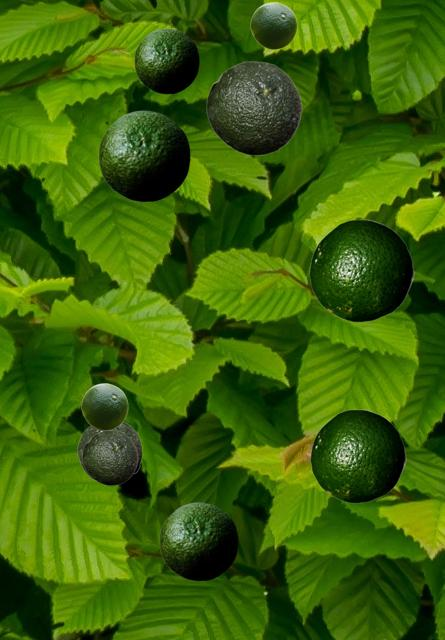calamansi: (309, 219, 413, 321), (310, 409, 405, 502), (206, 61, 301, 154), (98, 110, 189, 201), (159, 502, 237, 580), (134, 28, 198, 93), (77, 421, 141, 480), (82, 430, 137, 484), (81, 383, 127, 429), (250, 2, 296, 48)
